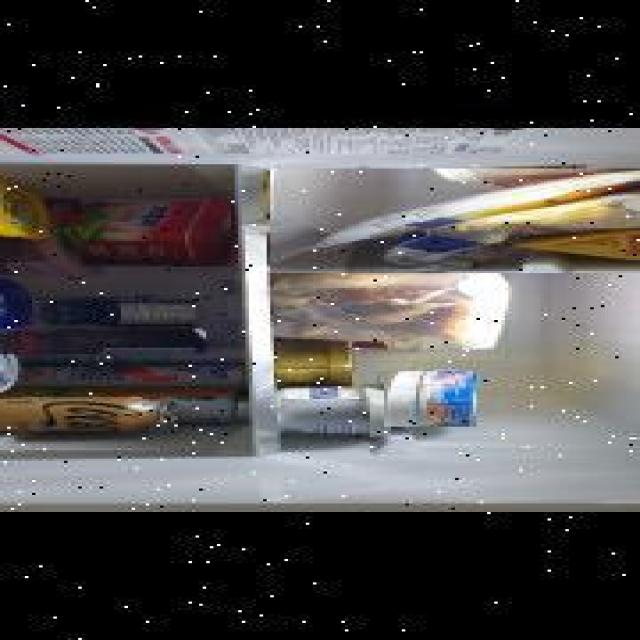butter: (78, 198, 228, 267)
cheese: (380, 371, 473, 427)
grated_cheese: (266, 168, 640, 273)
marmelade: (0, 329, 203, 354), (28, 299, 192, 326)
